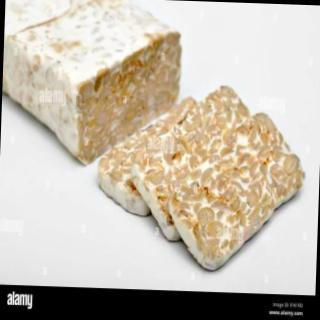Tempe: (93, 80, 312, 276)
